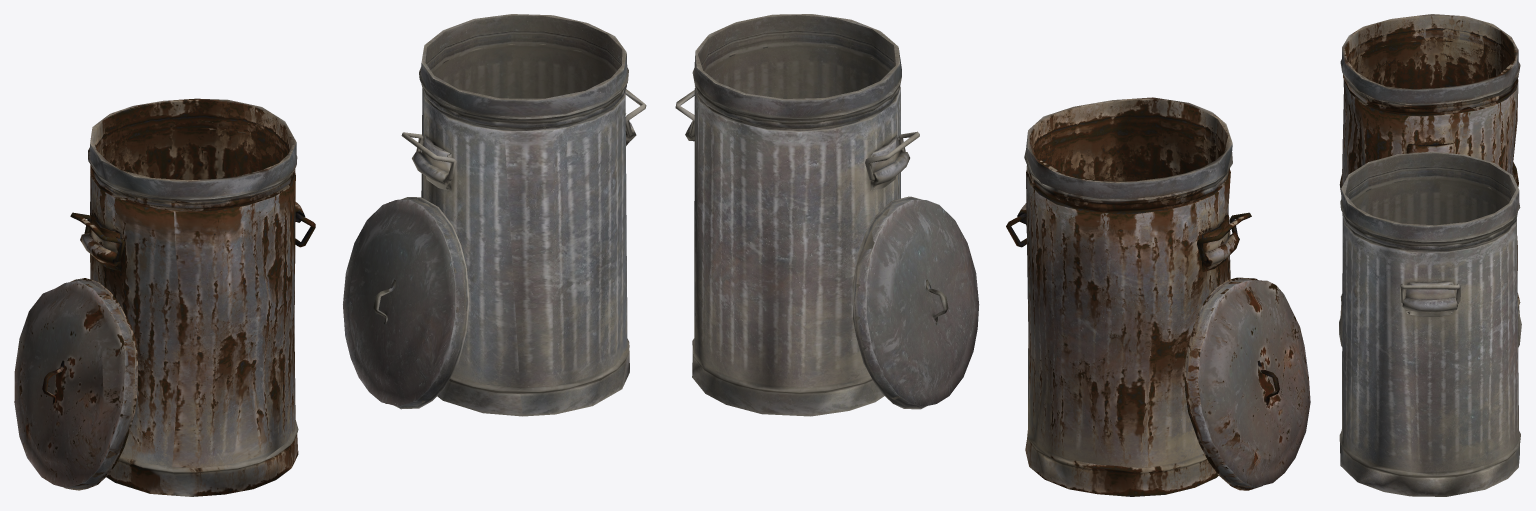
Rendered from metal_trash_can_1k.fbx.
3 renders of one model, left to right at view 1: azimuth 30°, elevation 25°; view 2: azimuth 150°, elevation 25°; view 3: azimuth 270°, elevation 25°, orthographic. The views are drawn at different scales.
Visible parts, largest first — view 1: metal_trash_can, metal_trash_can_rust, metal_trash_can_lid, metal_trash_can_rust_lid; view 2: metal_trash_can, metal_trash_can_rust, metal_trash_can_lid, metal_trash_can_rust_lid; view 3: metal_trash_can, metal_trash_can_rust, metal_trash_can_handle_right, metal_trash_can_lid.
Part boxes in pixels (x1=…): metal_trash_can: x1=412, y1=14, x2=636, y2=416; metal_trash_can_rust: x1=80, y1=98, x2=305, y2=496; metal_trash_can_lid: x1=343, y1=197, x2=469, y2=409; metal_trash_can_rust_lid: x1=14, y1=278, x2=137, y2=490; metal_trash_can: x1=685, y1=14, x2=909, y2=416; metal_trash_can_rust: x1=1017, y1=97, x2=1239, y2=496; metal_trash_can_lid: x1=852, y1=196, x2=979, y2=409; metal_trash_can_rust_lid: x1=1184, y1=277, x2=1310, y2=490; metal_trash_can: x1=1339, y1=151, x2=1520, y2=496; metal_trash_can_rust: x1=1340, y1=14, x2=1520, y2=317; metal_trash_can_handle_right: x1=1400, y1=283, x2=1460, y2=303; metal_trash_can_lid: x1=1339, y1=311, x2=1521, y2=347.
Bounding box in the file's own units: 178 × 90.64 × 55.67.
2 materials, 2 textured.
